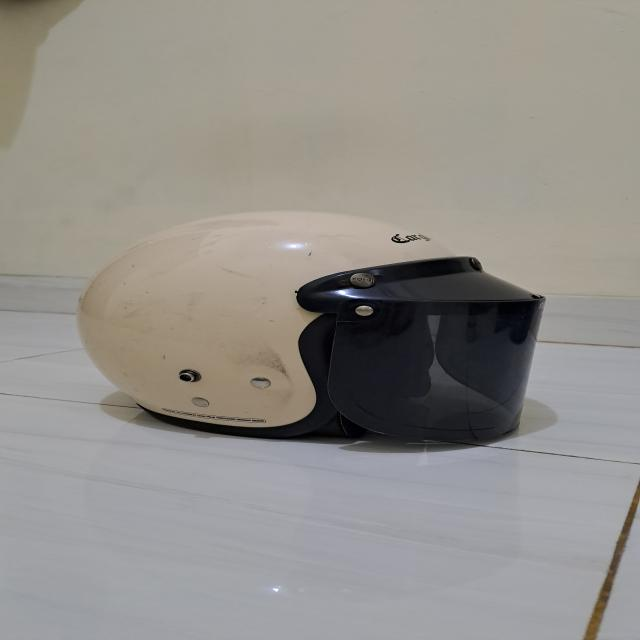Helm: (64, 212, 548, 454)
